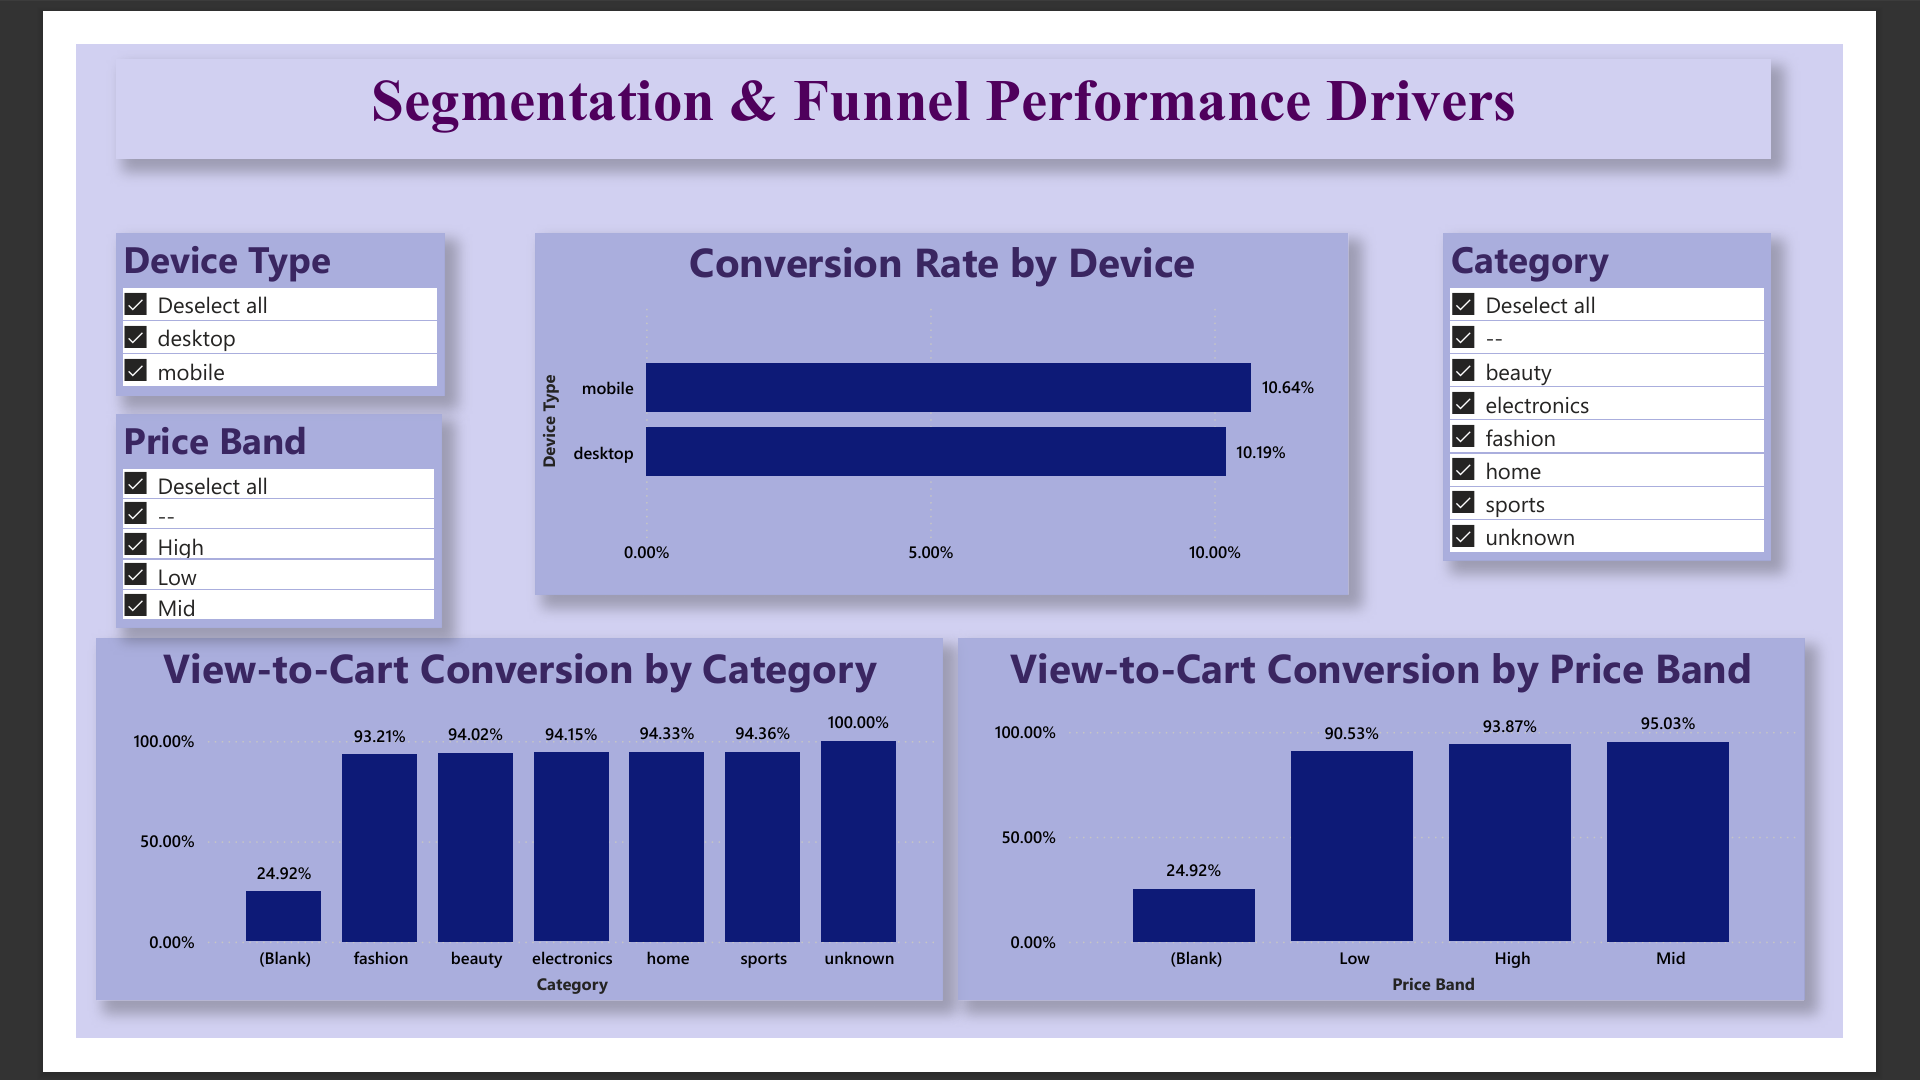

The dashboard page shown, as its layout file describes it:
{"tool":"powerbi","page":{"name":"Segmentation","canvas":[1280,720],"ordinal":2},"visuals":[{"type":"clusteredBarChart","title":"Conversion Rate by Device","fields":{"Category":["customers.device_type"],"Y":["customers.Funnel Conversion %"]},"box":[333.4,136.6,588.8,261.9],"z":0},{"type":"clusteredColumnChart","title":"View-to-Cart Conversion by Category","fields":{"Category":["products.category"],"Y":["Funnel_Stage.View-to-Cart %"]},"box":[14.6,431,613.2,261.9],"z":1000},{"type":"clusteredColumnChart","title":"View-to-Cart Conversion by Price Band","fields":{"Y":["Funnel_Stage.View-to-Cart %"],"Category":["products.Price Band"]},"box":[639.2,431,613.2,261.9],"z":2000},{"type":"listSlicer","title":"Device Type","fields":{"Values":["customers.device_type"]},"box":[29.3,136.6,237.5,118.7],"z":3000},{"type":"listSlicer","title":"Category","fields":{"Values":["products.category"]},"box":[990.6,136.6,237.5,237.5],"z":4000},{"type":"listSlicer","title":"Price Band","fields":{"Values":["products.Price Band"]},"box":[29.3,268.4,235.8,154.5],"z":5000},{"type":"textbox","box":[29.3,11.4,1198.8,71.6],"z":6000}]}

Visuals, with their boxes in screenshot pixels (x1, y1, x2, y2), scaled from the page's 1280x720 canvas onto the 1920x1080 screenshot:
"Conversion Rate by Device" clusteredBarChart: (x1=500, y1=205, x2=1383, y2=598)
"View-to-Cart Conversion by Category" clusteredColumnChart: (x1=22, y1=646, x2=942, y2=1039)
"View-to-Cart Conversion by Price Band" clusteredColumnChart: (x1=959, y1=646, x2=1879, y2=1039)
"Device Type" listSlicer: (x1=44, y1=205, x2=400, y2=383)
"Category" listSlicer: (x1=1486, y1=205, x2=1842, y2=561)
"Price Band" listSlicer: (x1=44, y1=403, x2=398, y2=634)
textbox: (x1=44, y1=17, x2=1842, y2=124)
